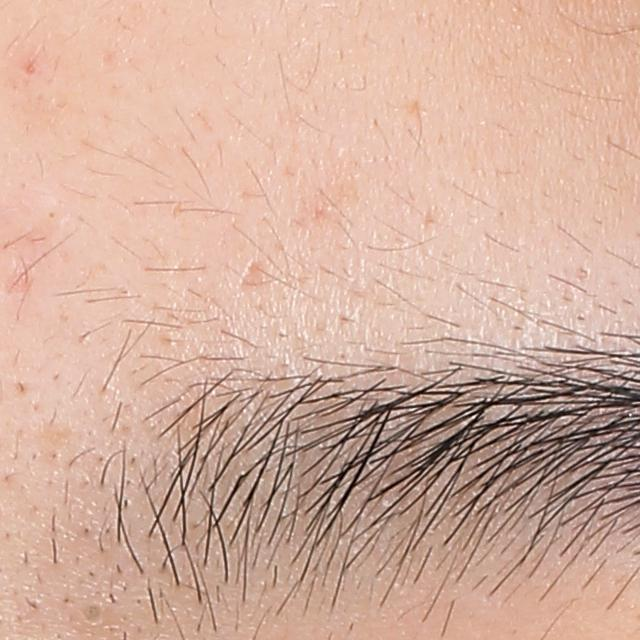atrophic_scar: (238, 257, 279, 290)
comedo: (42, 204, 61, 225)
